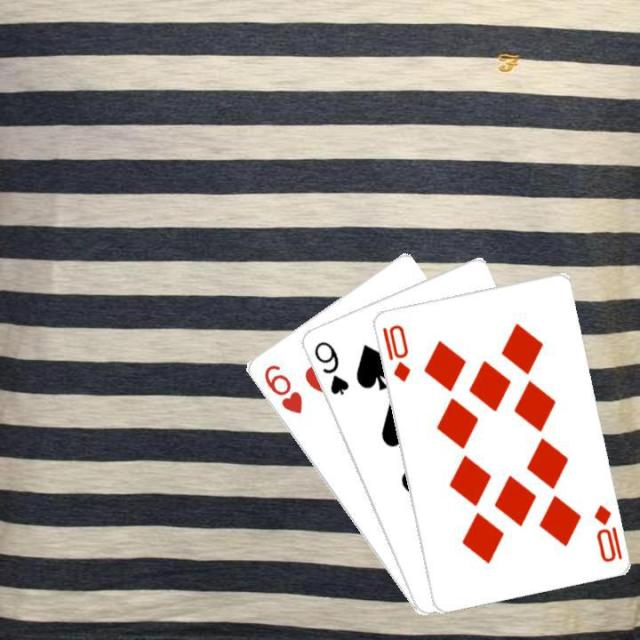10D: (589, 500, 623, 564), (378, 320, 412, 383)
6H: (259, 360, 304, 416)
9S: (310, 337, 350, 397)
